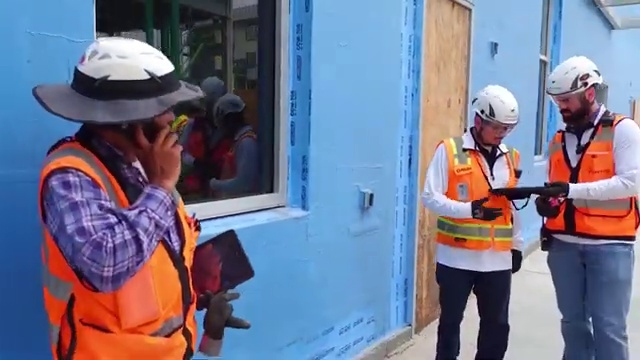helmet: (54, 34, 199, 110), (538, 48, 623, 97), (465, 70, 529, 126)
jacket: (28, 134, 210, 360), (544, 118, 640, 248), (432, 134, 528, 256)
